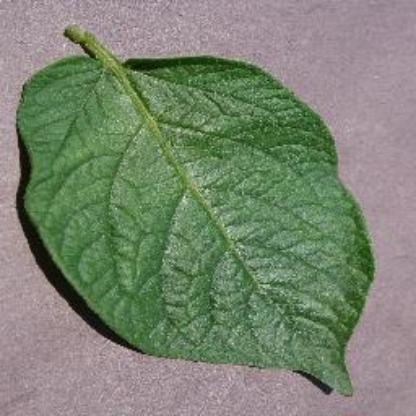Healthy-plant: (17, 23, 377, 399)
